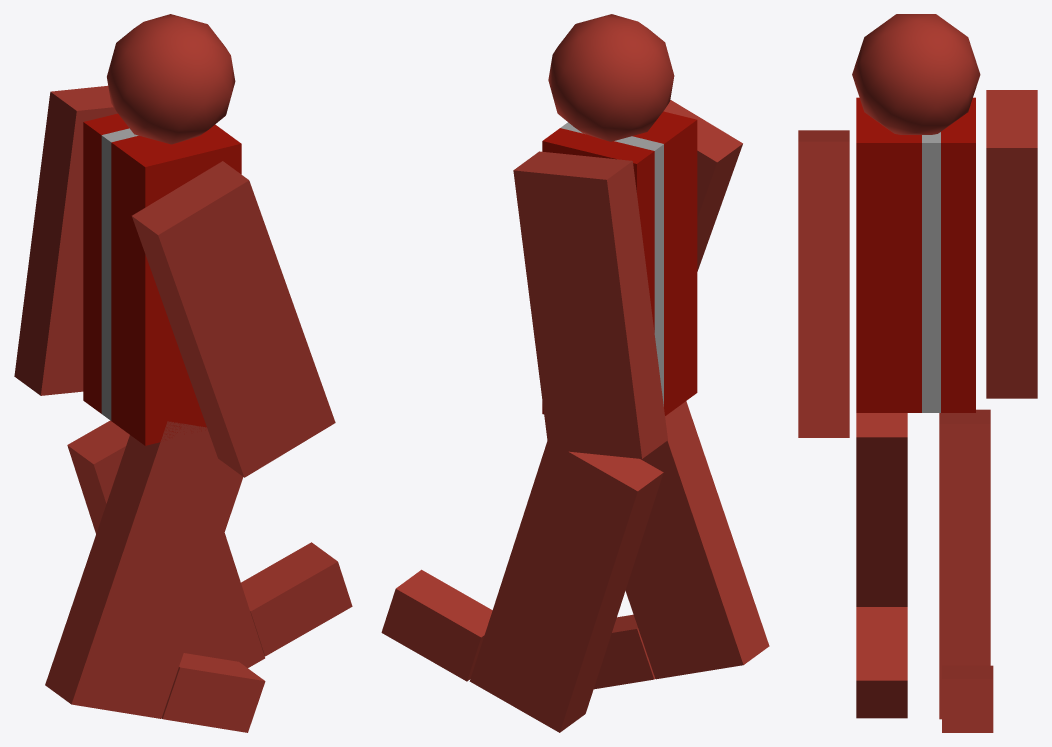
Rendered from player_000067.obj.
3 renders of one model, left to right at view 1: azimuth 30°, elevation 25°; view 2: azimuth 150°, elevation 25°; view 3: azimuth 270°, elevation 25°, orthographic. The views are drawn at different scales.
Parts seen in each view (by area): view 1: Cube.013, Cube.010, Cube.007, Cube.012, Icosphere.001, Cube.008, Cube.009, Cube.011; view 2: Cube.012, Cube.008, Cube.010, Cube.007, Icosphere.001, Cube.009, Cube.013, Cube.011; view 3: Cube.007, Cube.012, Cube.013, Cube.008, Icosphere.001, Cube.010, Cube.011, Cube.009.
Boxes of the visible parts, x1,y1,x2,y2 form: Cube.013: (132,161,335,477); Cube.010: (45,421,243,718); Cube.007: (83,113,241,445); Cube.012: (14,85,117,395); Icosphere.001: (107,14,235,144); Cube.008: (67,420,264,667); Cube.009: (241,542,352,656); Cube.011: (161,653,265,732); Cube.012: (513,151,667,458); Cube.008: (469,441,663,732); Cube.010: (625,401,769,679); Cube.007: (542,111,697,415); Icosphere.001: (548,14,674,141); Cube.009: (381,569,492,681); Cube.013: (663,100,742,271); Cube.011: (594,614,655,689); Cube.007: (856,97,975,412); Cube.012: (986,90,1037,398); Cube.013: (798,130,849,437); Cube.008: (939,409,990,719); Icosphere.001: (852,14,980,134); Cube.010: (856,413,907,606); Cube.011: (856,607,907,718); Cube.009: (942,665,993,732).
Size of the model in its own units: 1.39 by 2.87 by 0.9137.
